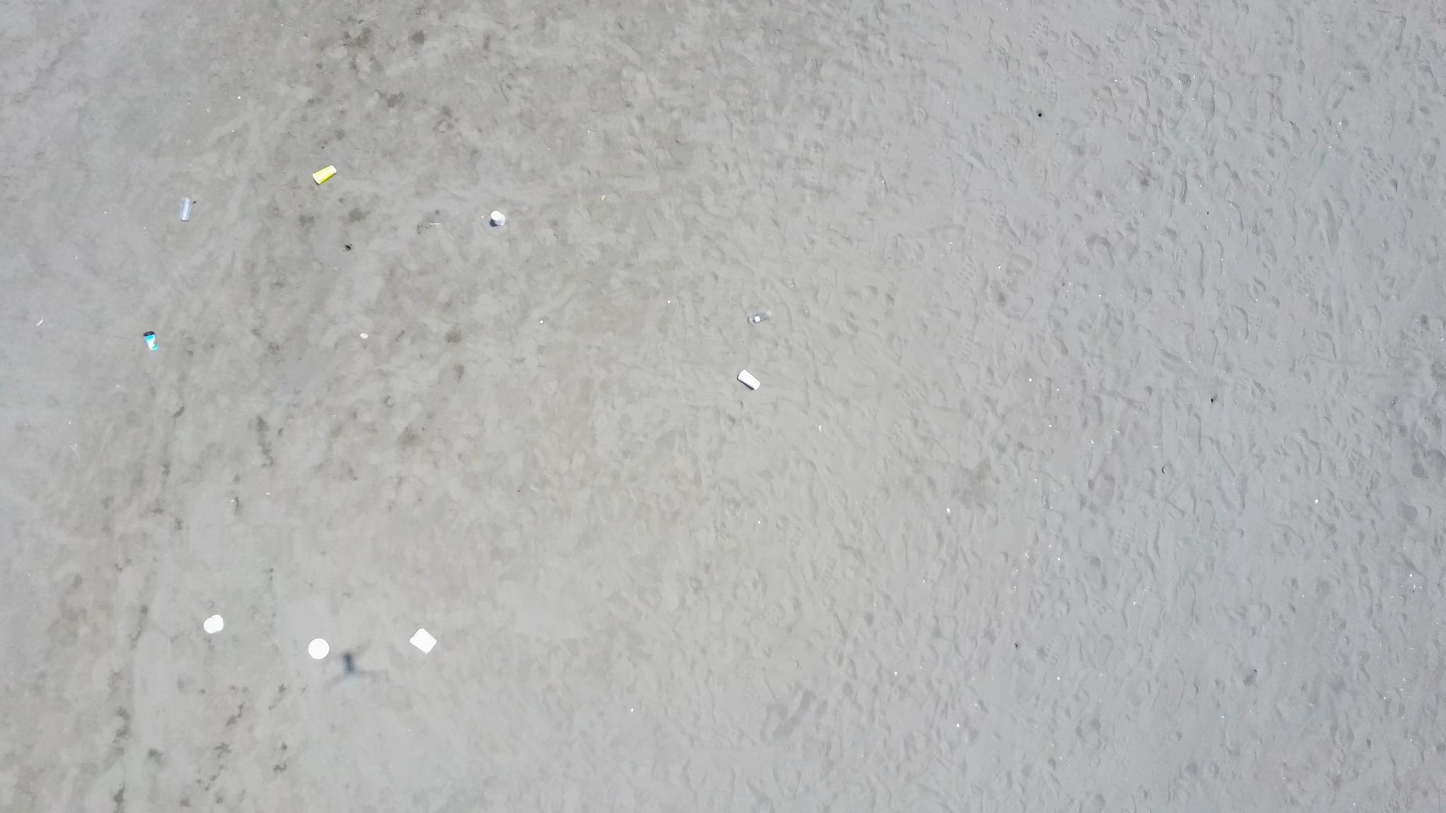Garbage: (409, 628, 436, 652), (307, 637, 329, 658), (737, 368, 758, 390), (311, 165, 335, 183), (203, 615, 223, 633), (342, 651, 355, 673), (749, 310, 771, 323), (179, 198, 191, 220), (490, 211, 506, 225), (142, 332, 154, 349), (36, 318, 43, 325), (359, 332, 367, 338)
